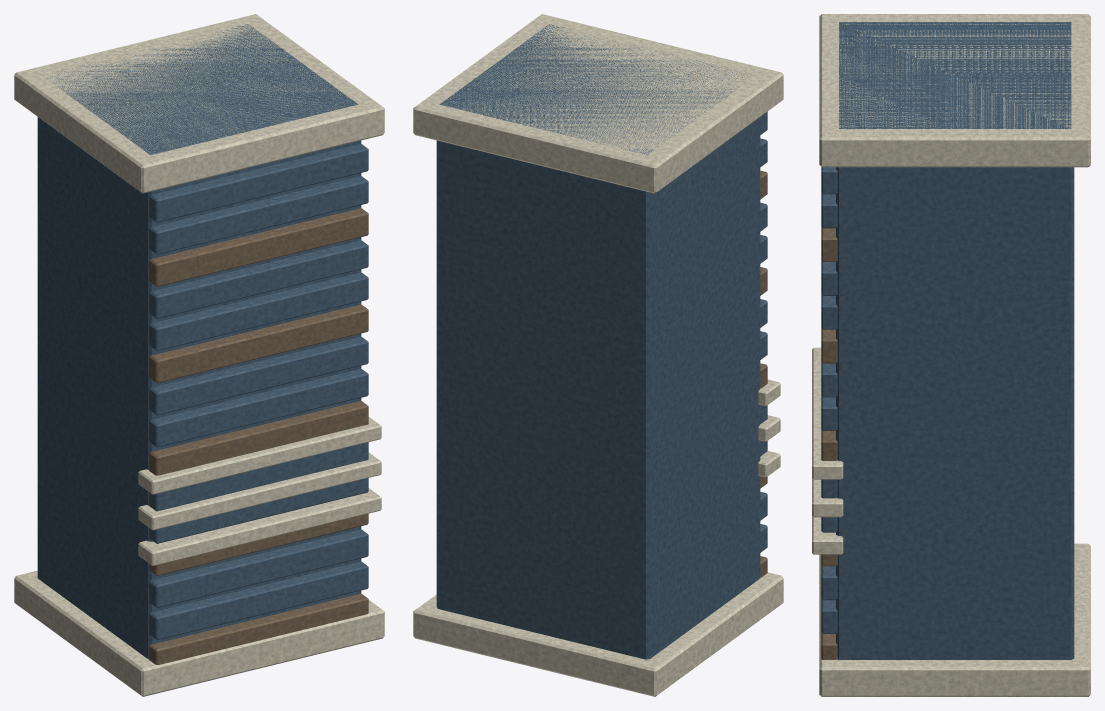
File: TUNN21RC_lod0.glb
3 renders of one model, left to right at view 1: azimuth 30°, elevation 25°; view 2: azimuth 150°, elevation 25°; view 3: azimuth 270°, elevation 25°, orthographic. The views are drawn at different scales.
Parts seen in each view (by area): view 1: TUNN21RC_LOD0; view 2: TUNN21RC_LOD0; view 3: TUNN21RC_LOD0.
Part boxes in pixels (bbox=[...]): TUNN21RC_LOD0: bbox=[14, 14, 384, 696]; TUNN21RC_LOD0: bbox=[413, 14, 783, 696]; TUNN21RC_LOD0: bbox=[812, 14, 1090, 696].
Bounding box in the file's own units: 1.43 × 3 × 1.34.
4 materials, 4 textured.
